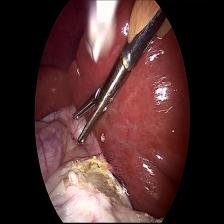Grasper: (66, 57, 131, 155)
Hook: (79, 0, 121, 72)
